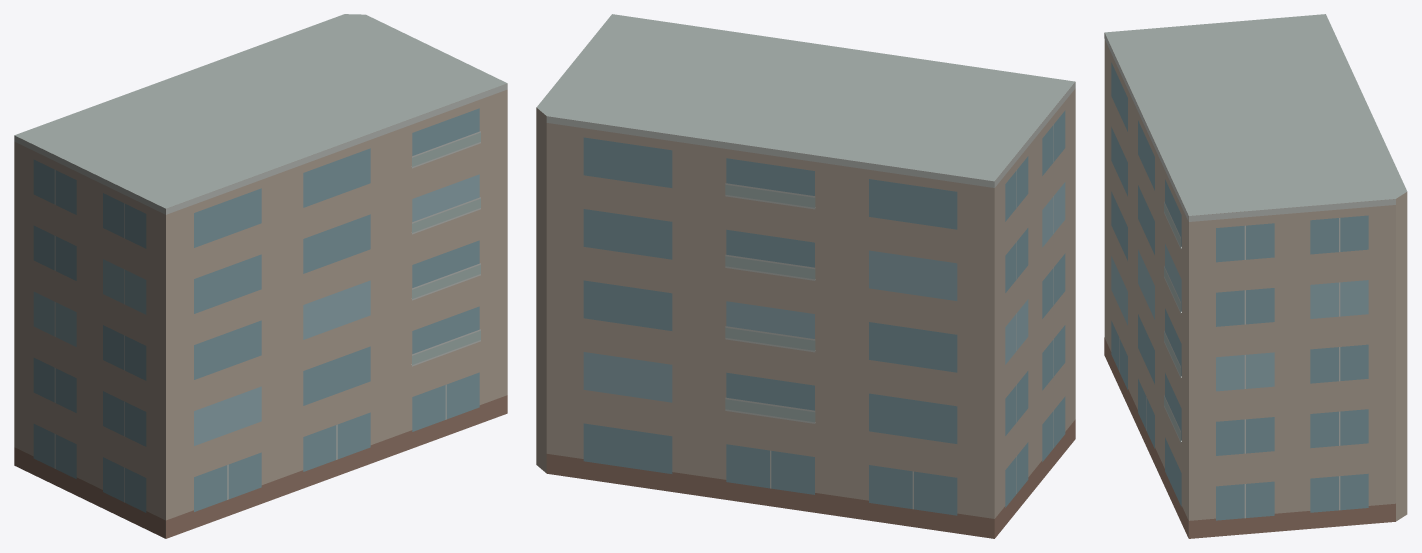
File: survey-upis-32705120.glb
The picture shows the model from 3 angles, left to right: view 1: azimuth 30°, elevation 25°; view 2: azimuth 150°, elevation 25°; view 3: azimuth 270°, elevation 25°; orthographic projection. The views are drawn at different scales.
Parts seen in each view (by area): view 1: survey-upis-32705120.tmp; view 2: survey-upis-32705120.tmp; view 3: survey-upis-32705120.tmp.
Boxes of the visible parts, <box> form: survey-upis-32705120.tmp: <box>14,14,507,538</box>; survey-upis-32705120.tmp: <box>536,14,1075,538</box>; survey-upis-32705120.tmp: <box>1104,14,1407,538</box>.
Bounding box in the file's own units: 17.59 × 13.1 × 11.15.
